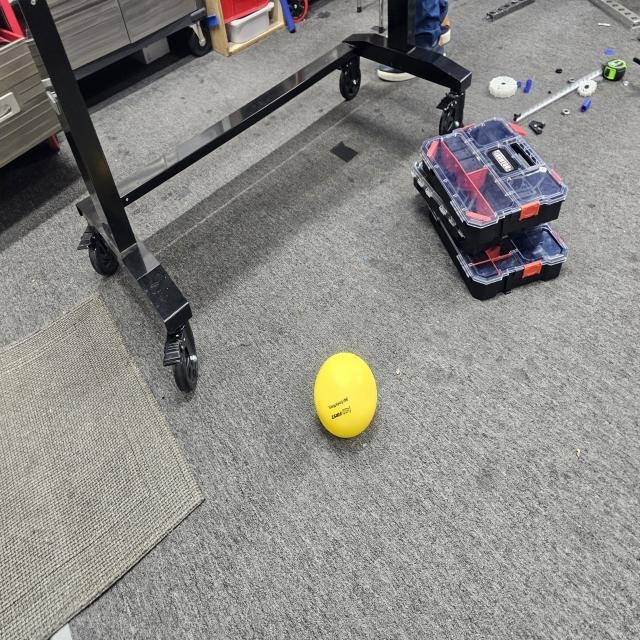Fuel: (311, 348, 381, 442)
